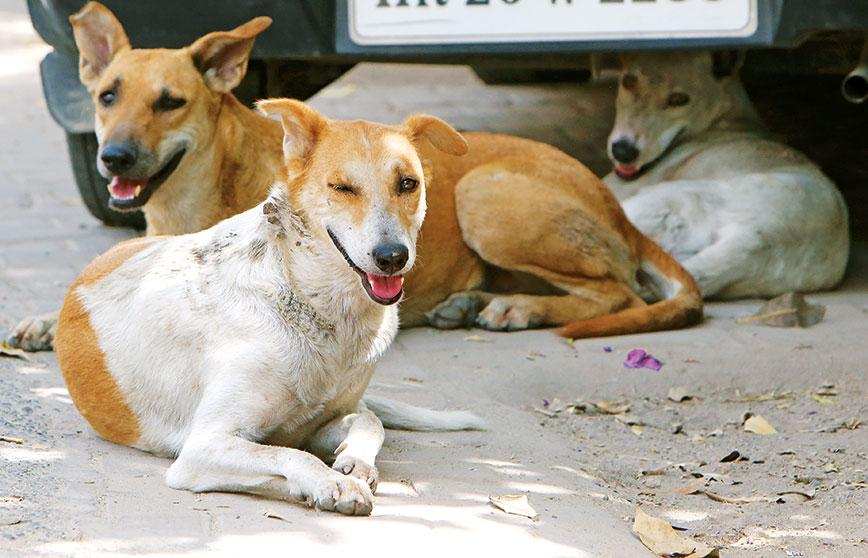Dog: (57, 9, 710, 334), (39, 112, 505, 519)
